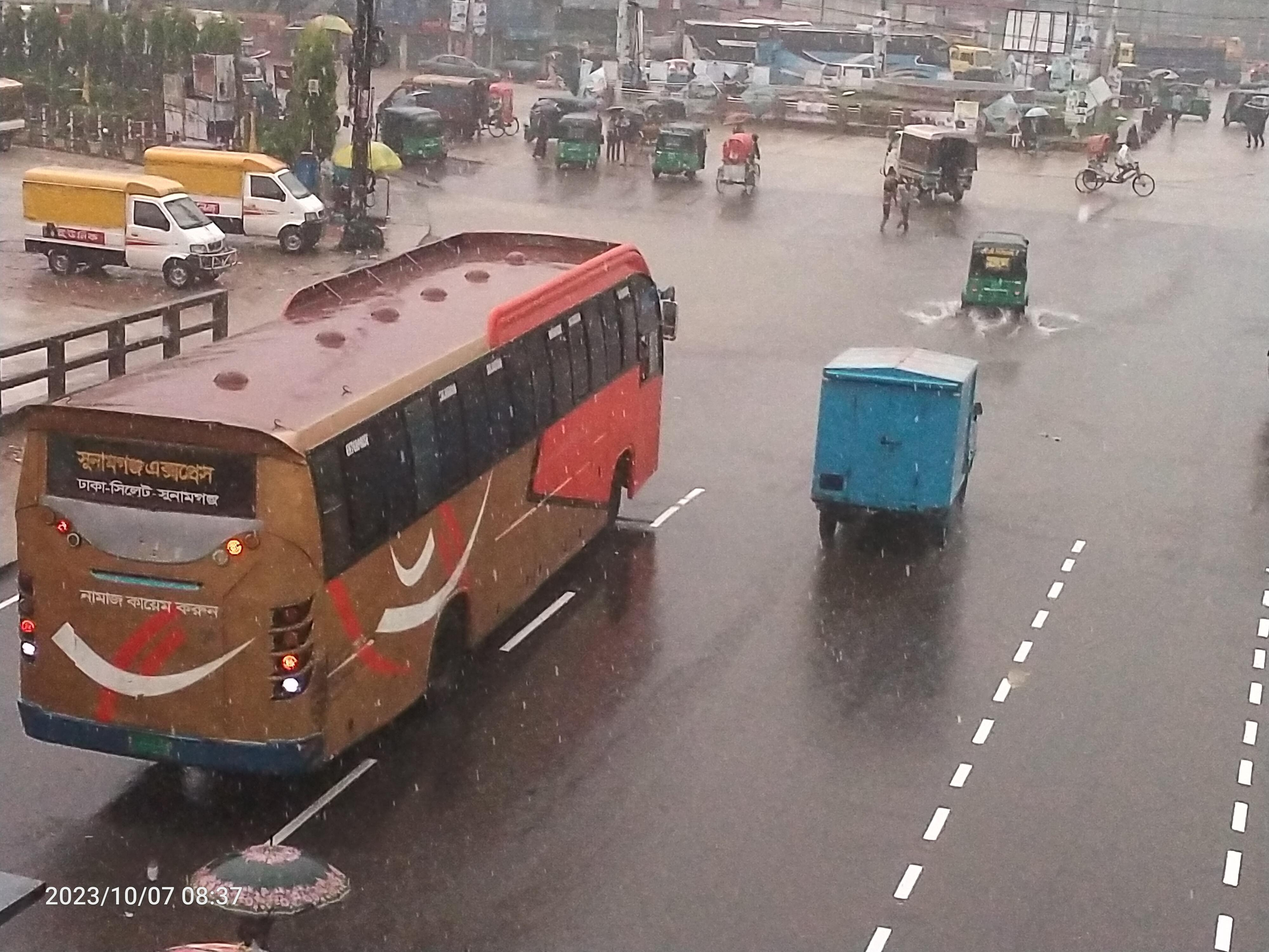Bus: (0, 251, 710, 817), (731, 9, 980, 136), (668, 7, 784, 104)
Car: (0, 145, 249, 299), (135, 115, 339, 266), (1055, 124, 1166, 216), (704, 124, 769, 205), (476, 63, 529, 151)
Truck: (775, 315, 1018, 586), (1095, 18, 1253, 90), (943, 25, 1012, 89)
